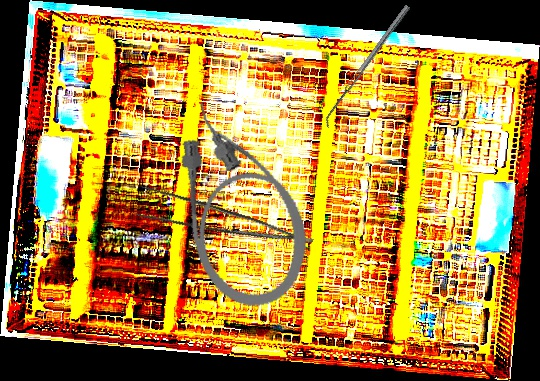Cannula: (163, 86, 320, 319)
Spatula Surgical: (320, 4, 415, 129)
Tissue Forceps: (127, 178, 314, 273)
